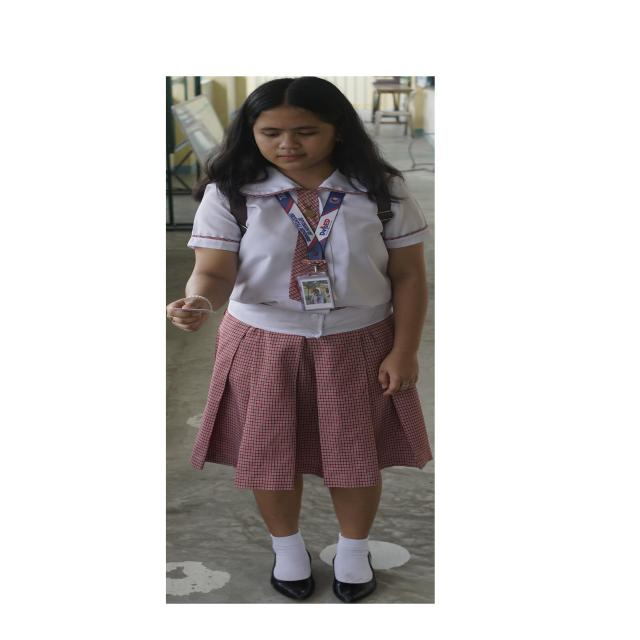id lace: (277, 191, 344, 262)
pologirl: (188, 167, 430, 340), (289, 234, 308, 301), (296, 189, 320, 232)
shoes: (270, 561, 315, 601), (333, 573, 377, 603), (368, 552, 372, 571)
skirt: (191, 311, 431, 490)
